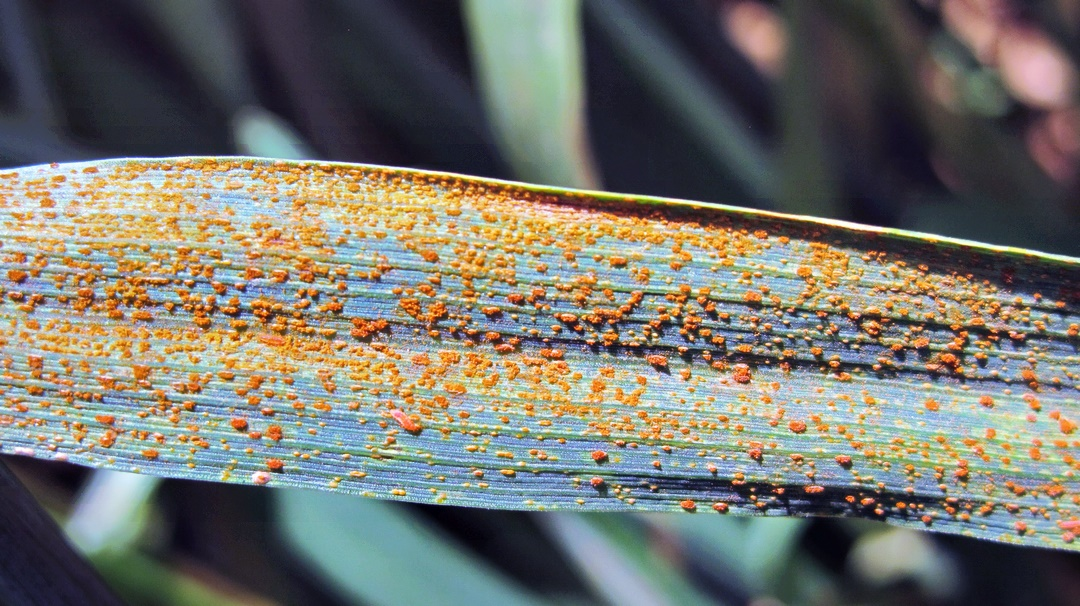Leaf Rust: (59, 161, 1071, 543)
